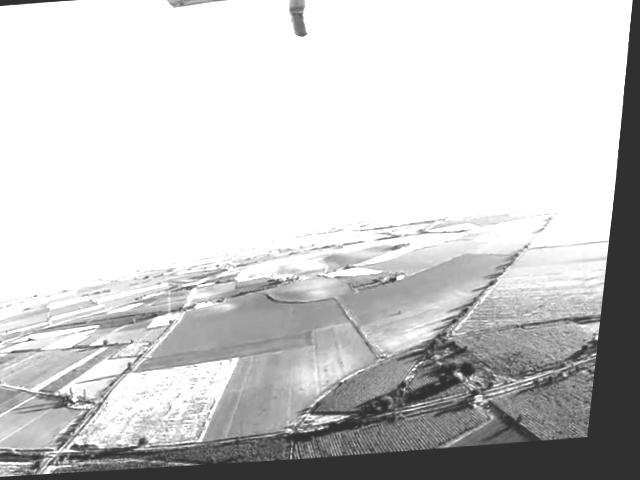hedef: (151, 0, 450, 65)
